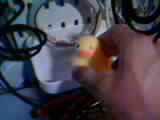duck: (74, 34, 97, 67)
